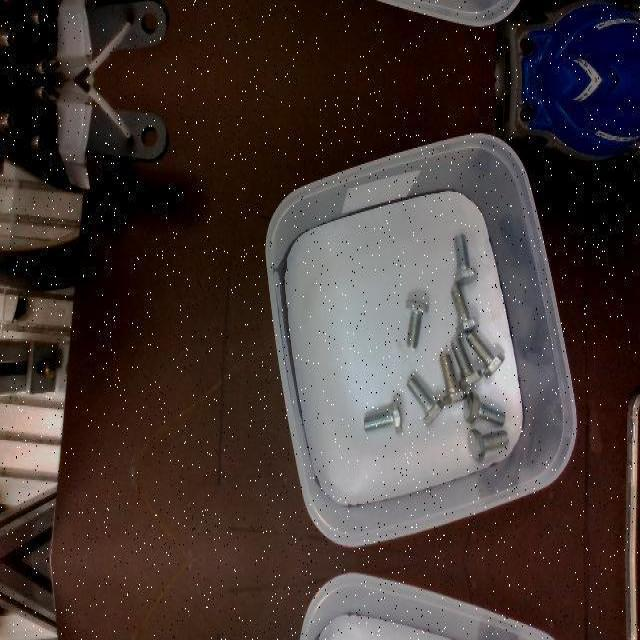screw: (406, 375, 445, 425), (466, 330, 505, 378), (450, 337, 483, 389), (463, 390, 506, 426), (467, 428, 509, 464), (439, 353, 467, 405), (451, 284, 480, 334), (363, 399, 402, 433), (453, 233, 478, 285), (405, 299, 429, 349)
